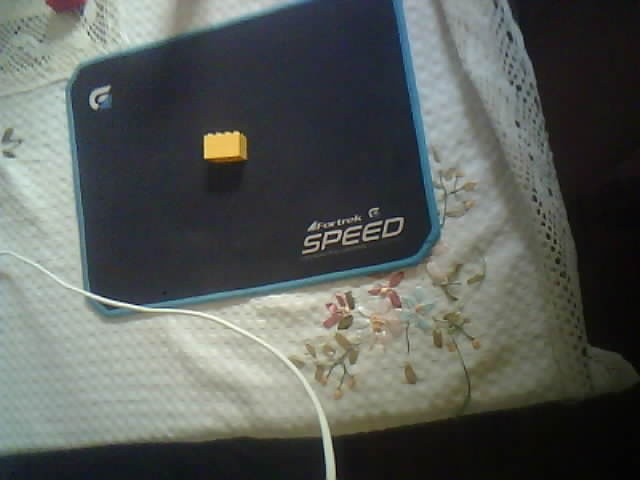lego: (202, 130, 247, 164)
